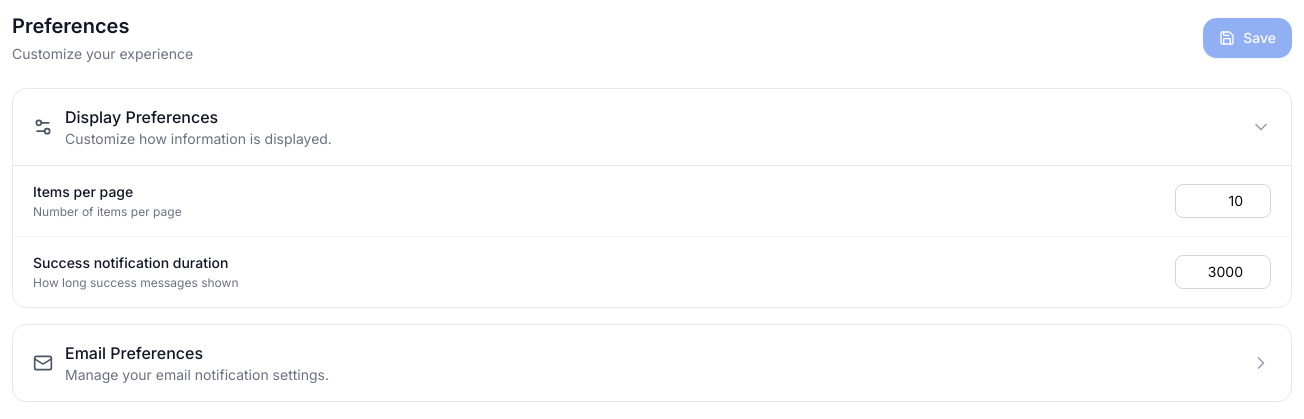
Test: UserPreferencesPanel › should expand/collapse categories on click
The image size is (1304, 419).
Click Email Preferences to expand it
Click the text "Email Preferences". click: (134, 353)
box: [65,343,203,363]
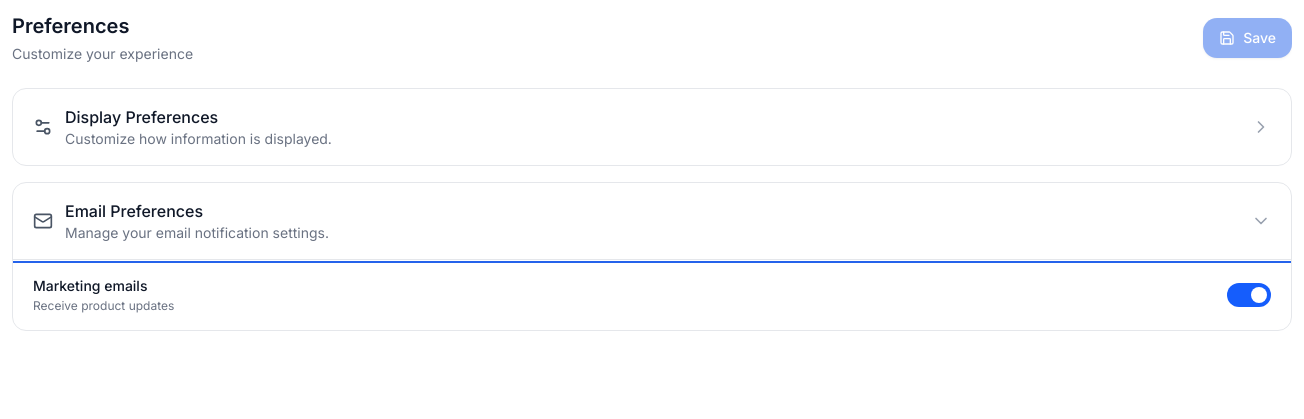
Expected: the text "Marketing emails" is shown, [33,276,147,296]
